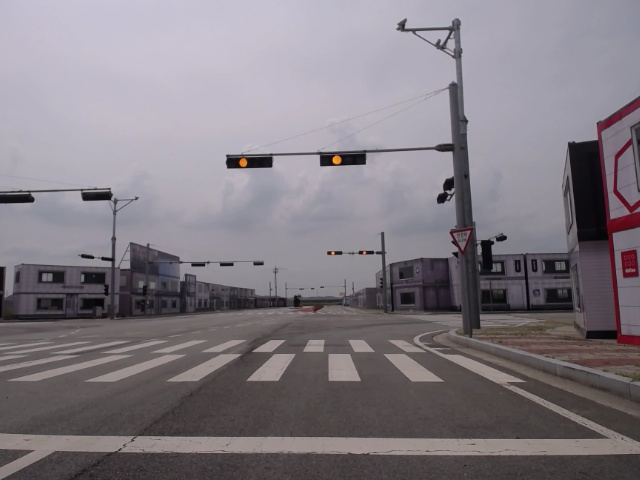orange_4: (319, 152, 367, 167), (225, 155, 273, 169), (357, 249, 375, 256), (326, 250, 344, 256)
